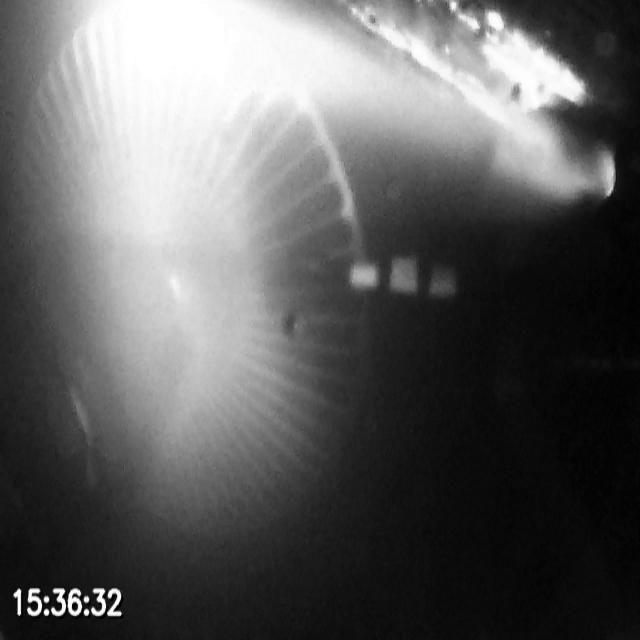white-dots: (348, 254, 460, 302)
